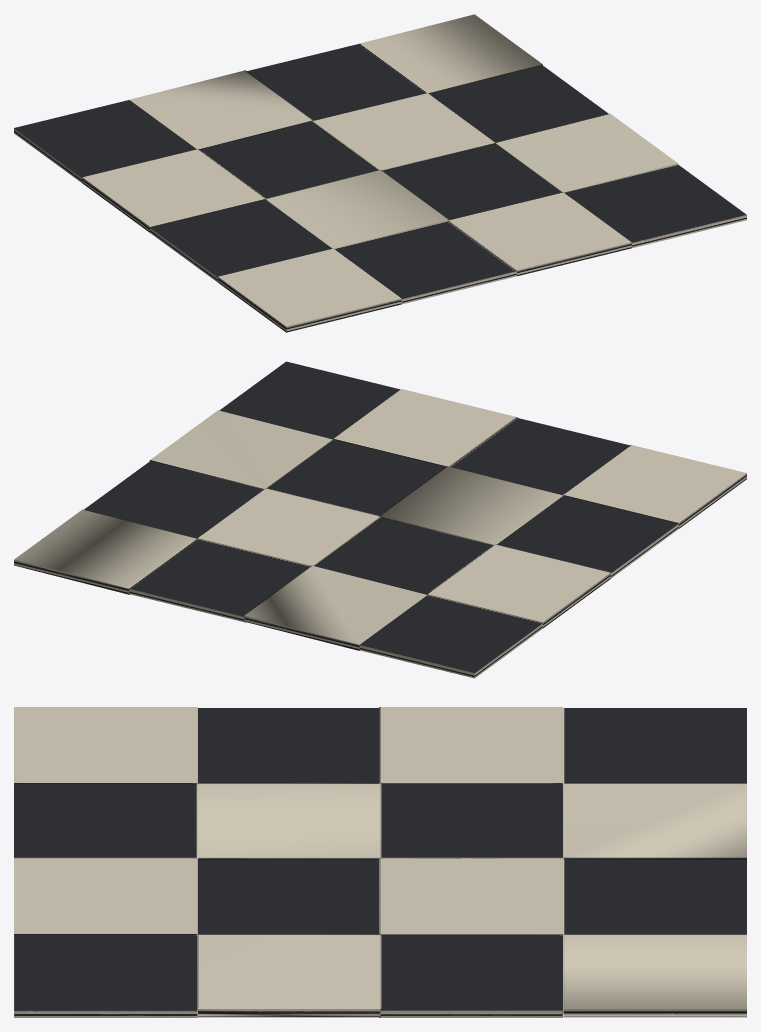
The model's file is floor.glb.
3 renders of one model, top to bottom at view 1: azimuth 30°, elevation 25°; view 2: azimuth 150°, elevation 25°; view 3: azimuth 270°, elevation 25°, orthographic. The views are drawn at different scales.
Parts seen in each view (by area): view 1: floor_V5_TEMP; view 2: floor_V5_TEMP; view 3: floor_V5_TEMP.
Boxes of the visible parts, left/top/right/bottom form: floor_V5_TEMP: left=14, top=14, right=746, bottom=332; floor_V5_TEMP: left=14, top=361, right=746, bottom=678; floor_V5_TEMP: left=14, top=707, right=746, bottom=1017.
Bounding box in the file's own units: 25 × 0.3759 × 25.58.
1 material, 1 textured.
